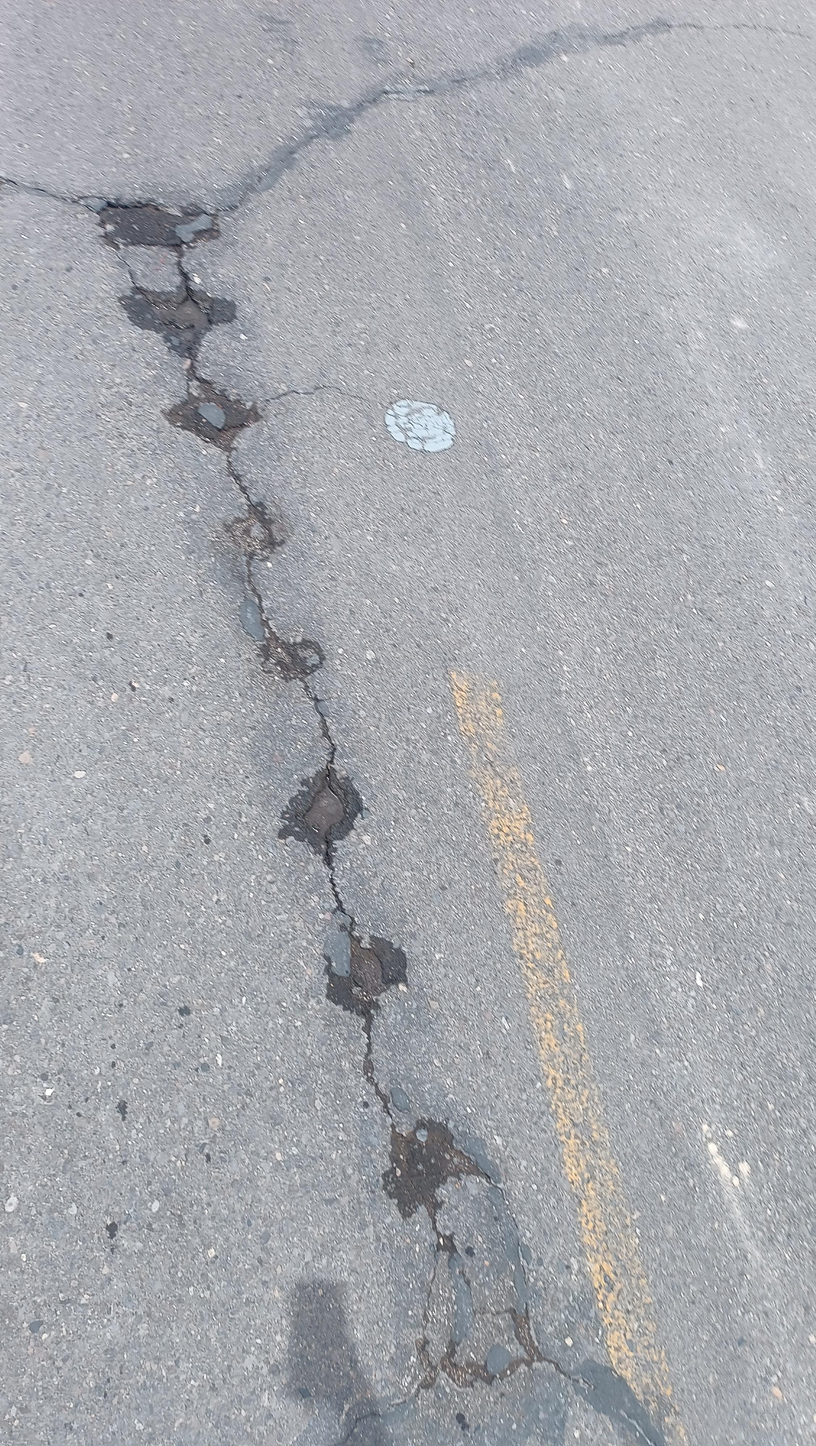GRIETA: (86, 201, 462, 1231), (222, 69, 490, 213), (337, 1399, 408, 1446), (652, 21, 811, 40), (0, 176, 88, 207), (266, 385, 367, 403), (620, 1409, 657, 1445), (554, 1363, 596, 1391)
PIEL DE COCODRILO: (410, 1173, 561, 1400)
